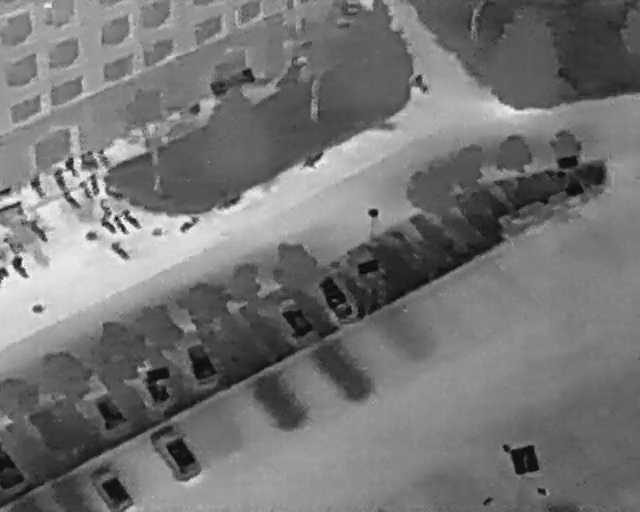Bicycle: (295, 146, 330, 176), (7, 251, 37, 285), (212, 190, 246, 218), (73, 147, 102, 178), (105, 237, 135, 266), (407, 71, 437, 99), (24, 217, 52, 246), (116, 205, 145, 233), (175, 211, 204, 236), (47, 164, 71, 194), (59, 153, 83, 183), (26, 174, 50, 202), (95, 213, 121, 238), (108, 211, 132, 238), (93, 144, 115, 173), (0, 232, 23, 258), (61, 188, 84, 213), (75, 178, 96, 205), (102, 181, 127, 202), (96, 195, 116, 220), (85, 171, 102, 197), (0, 265, 10, 287)
Car: (142, 415, 209, 490), (171, 332, 224, 397), (307, 265, 359, 329), (267, 289, 321, 349), (126, 361, 176, 416), (82, 384, 131, 438), (89, 465, 134, 510), (0, 440, 27, 492)
